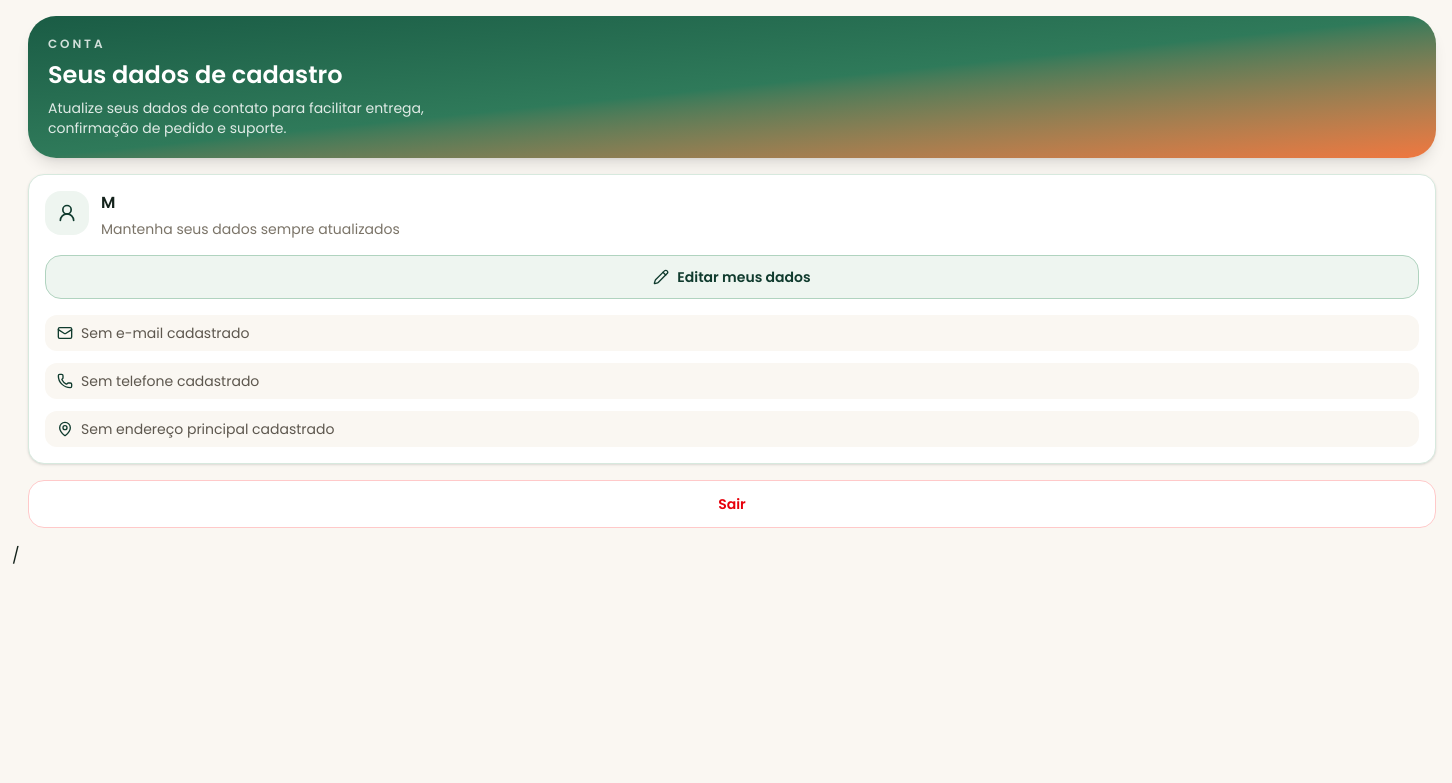
it: minha conta › conta sem endereço e sair
Later steps or results of the test are not shown.
Expected: the text "Sem endereço principal cadastrado" is shown, [81, 419, 334, 439]
Expected: the text "Mantenha seus dados sempre atualizados" is shown, [101, 219, 400, 239]
Click the button "Editar meus dados": (732, 277) [45, 255, 1419, 299]
(page scrolled)
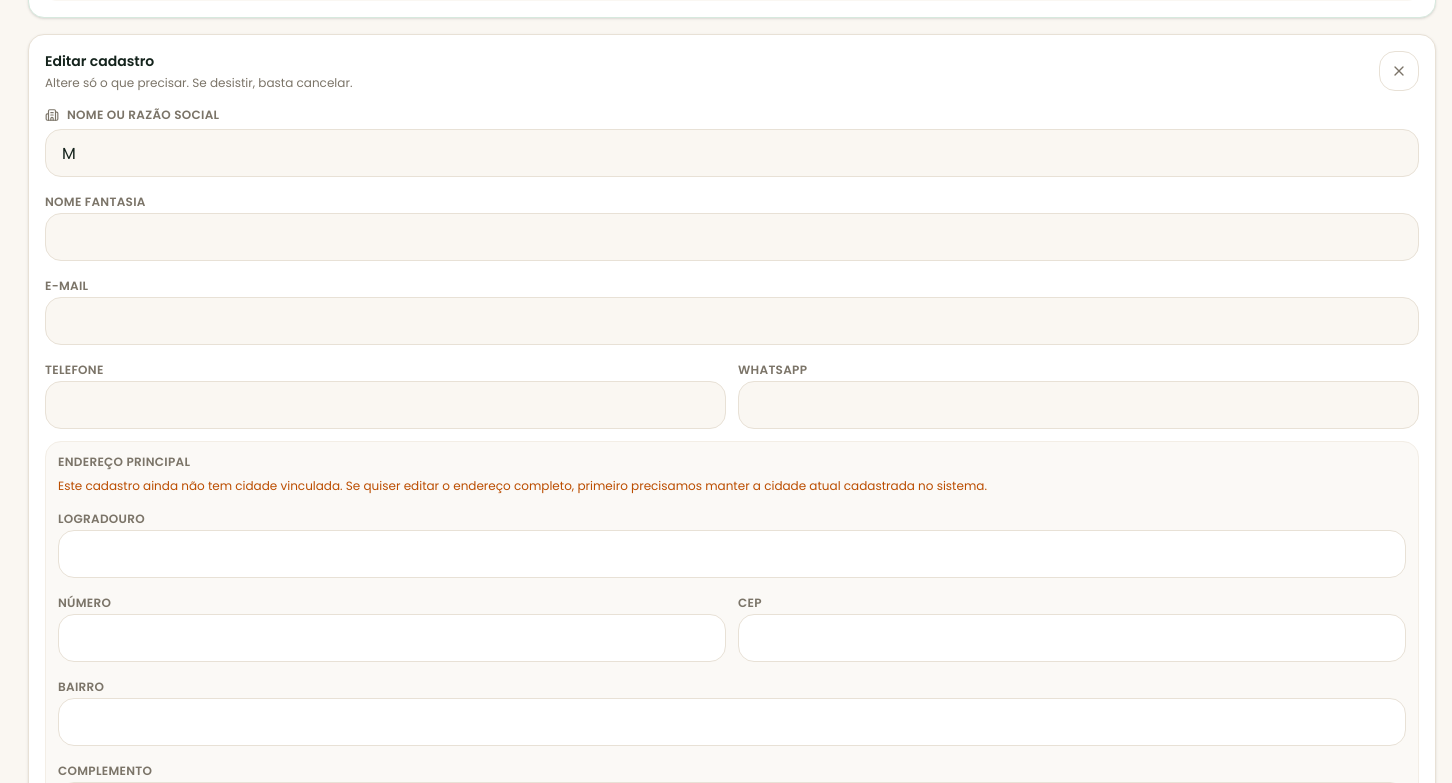
Result: the text "não tem cidade vinculada" is shown at [58, 477, 987, 494]
